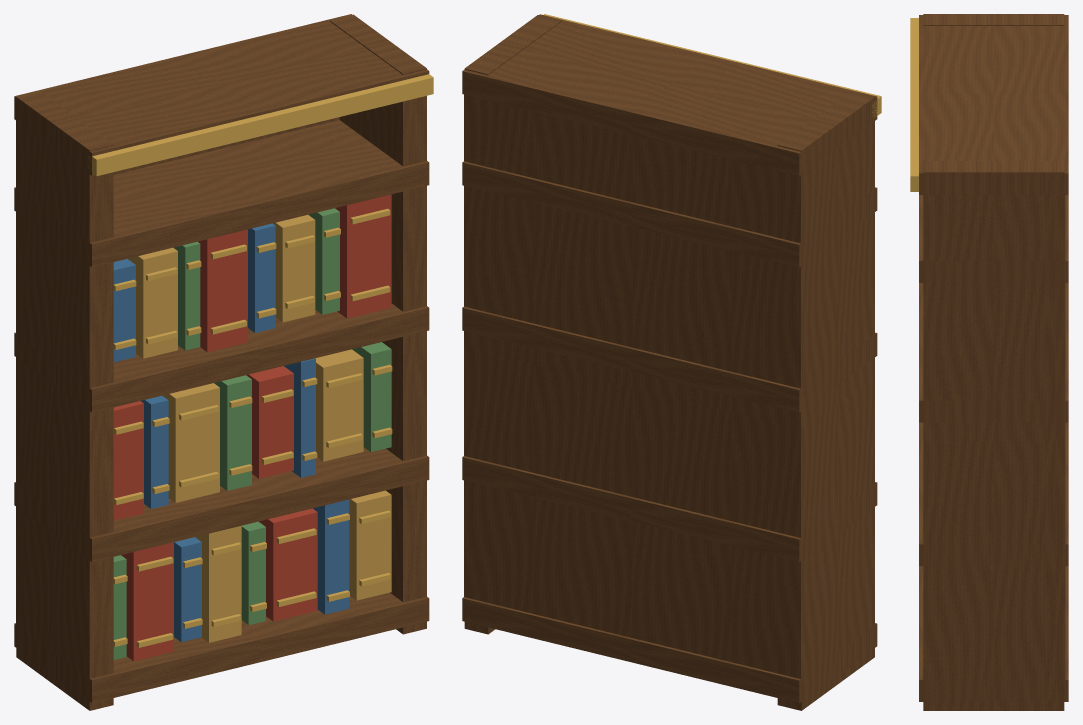
The model's file is bookcase.glb.
3 renders of one model, left to right at view 1: azimuth 30°, elevation 25°; view 2: azimuth 150°, elevation 25°; view 3: azimuth 270°, elevation 25°, orthographic. The views are drawn at different scales.
Visible parts, largest first — view 1: Shelf side, Shelf plank.003, Shelf plank.004, Shelf side.001, Shelf plank.001, Shelf plank.002, Shelf plank, Top carved trim, Shelf backing, Leather bound book.023, Leather bound book.010, Leather bound book.019 (+21 smaller); view 2: Shelf backing, Shelf side, Shelf plank.004, Shelf plank.003, Shelf plank.002, Shelf plank, Shelf plank.001, Shelf side.001, Top carved trim; view 3: Shelf side.001, Shelf plank.004, Shelf backing, Shelf plank.002, Shelf plank, Shelf plank.001, Shelf plank.003, Shelf side, Top carved trim.
Part boxes in pixels (x1,y1,x2,y2): Shelf side: (16, 91, 113, 710); Shelf plank.003: (14, 120, 429, 267); Shelf plank.004: (14, 14, 429, 175); Shelf side.001: (330, 14, 426, 634); Shelf plank.001: (14, 447, 429, 561); Shelf plank.002: (14, 303, 429, 412); Shelf plank: (14, 592, 429, 703); Top carved trim: (88, 74, 433, 176); Shelf backing: (16, 105, 339, 645); Leather bound book.023: (335, 194, 391, 318); Leather bound book.010: (162, 383, 219, 502); Leather bound book.019: (198, 229, 247, 352); Shelf backing: (464, 94, 811, 698); Shelf side: (777, 91, 874, 710); Shelf plank.004: (462, 14, 877, 175); Shelf plank.003: (462, 161, 877, 267); Shelf plank.002: (462, 306, 877, 412); Shelf plank: (462, 597, 877, 703); Shelf plank.001: (462, 456, 877, 561); Shelf side.001: (464, 15, 561, 634); Top carved trim: (544, 14, 881, 117); Shelf side.001: (923, 161, 1064, 710); Shelf plank.004: (919, 15, 1068, 194); Shelf backing: (1045, 180, 1065, 698); Shelf plank.002: (919, 283, 1068, 422); Shelf plank: (919, 566, 1068, 701); Shelf plank.001: (919, 422, 1068, 566); Shelf plank.003: (919, 195, 1068, 282); Shelf side: (923, 14, 1064, 25); Top carved trim: (910, 18, 918, 191).
Bounding box in the file's own units: 0.85 × 1.35 × 0.36.
6 materials, 1 textured.
